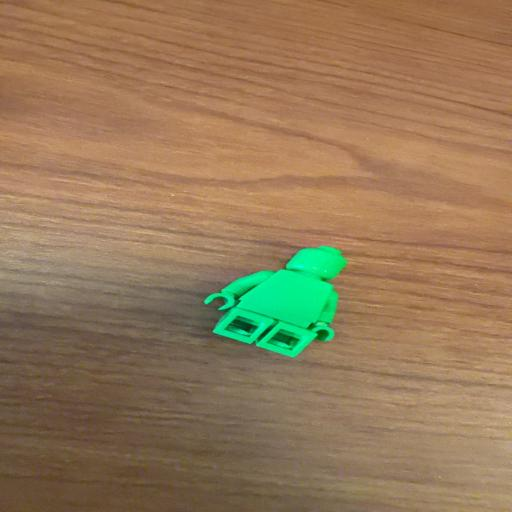UnoQ-minifig-detector: (204, 246, 347, 357)
